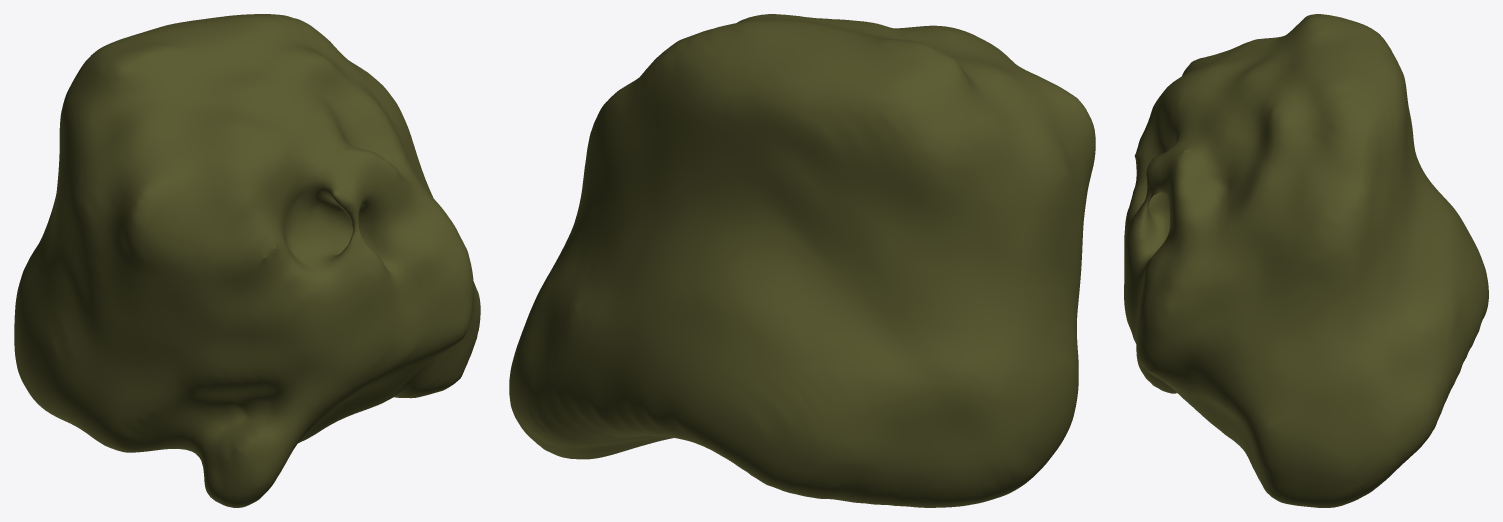
File: segmentations_urinary_bladder.obj
The picture shows the model from 3 angles, left to right: view 1: azimuth 30°, elevation 25°; view 2: azimuth 150°, elevation 25°; view 3: azimuth 270°, elevation 25°; orthographic projection. The views are drawn at different scales.
Parts seen in each view (by area): view 1: grp1; view 2: grp1; view 3: grp1.
Part boxes in pixels (bbox=[...]): grp1: bbox=[14, 14, 480, 507]; grp1: bbox=[509, 14, 1095, 507]; grp1: bbox=[1124, 14, 1488, 507].
Bounding box in the file's own units: 71.33 × 64.43 × 58.28.
